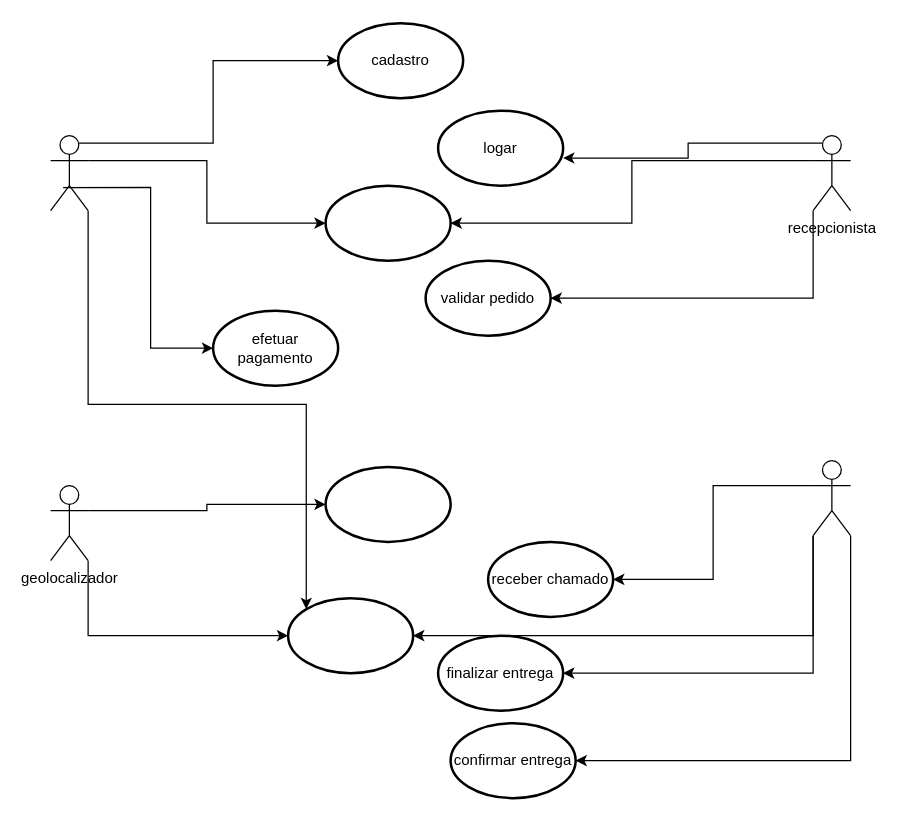
Some shapes in this 898 by 820 pixel diagram are drawn without their labels. Here are the shapes that lost their labels. From the top down, the centre of each, then its label:
At point 68,172: "cliente".
At point 387,222: "fazer pedido".
At point 387,503: "ativar localizao".
At point 831,497: "entregador".
At point 350,635: "exibir localizao".
